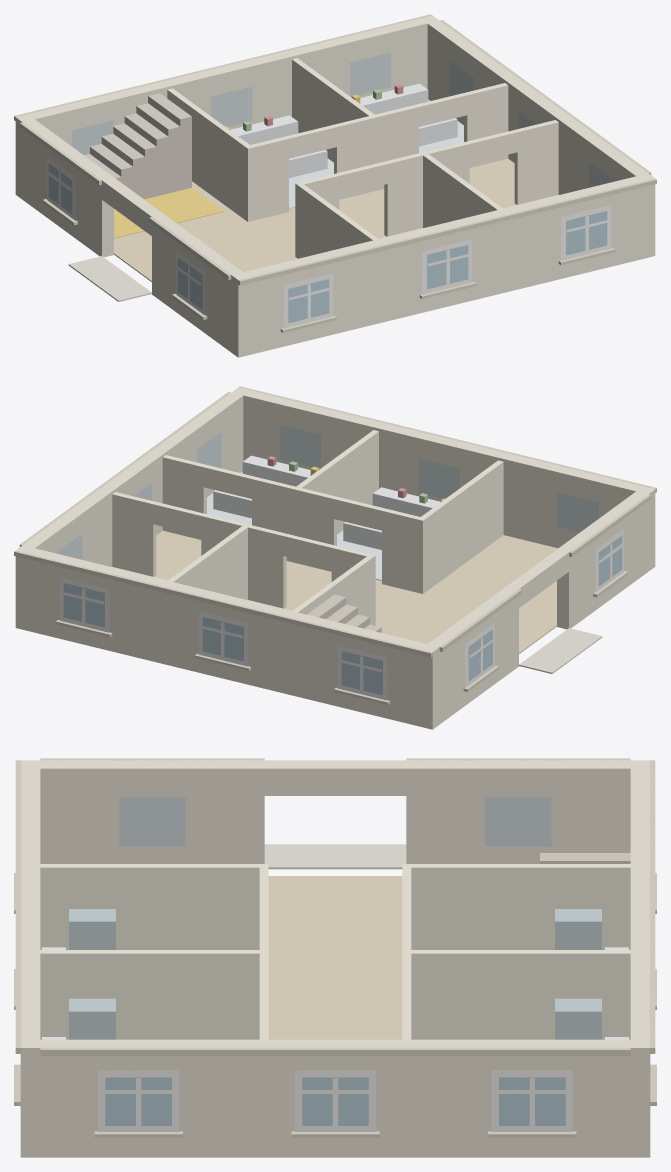
File: SPECIAL.glb
3 views of the same model, one above another, from view 1: azimuth 30°, elevation 25°; view 2: azimuth 150°, elevation 25°; view 3: azimuth 270°, elevation 25° (orthographic). The views are drawn at different scales.
Parts seen in each view (by area): view 1: HUS_SPECIAL__F1__E8DDC2, HUS_SPECIAL__F1__F1E6CA, HUS_SPECIAL__F1__CDB892, HUS_SPECIAL__F1__BFB3A0, HUS_SPECIAL__F1__C8BEA7, HUS_SPECIAL__F1__B4C7CD, HUS_SPECIAL__F1__FBF8F1, HUS_SPECIAL__F1__E6ECEE, HUS_SPECIAL__F1__87AABD, HUS_SPECIAL__F1__86A9BC, HUS_SPECIAL__F1__E7B54A, HUS_SPECIAL__F1__D7D1C2 (+2 smaller); view 2: HUS_SPECIAL__F1__E8DDC2, HUS_SPECIAL__F1__F1E6CA, HUS_SPECIAL__F1__CDB892, HUS_SPECIAL__F1__C8BEA7, HUS_SPECIAL__F1__B4C7CD, HUS_SPECIAL__F1__FBF8F1, HUS_SPECIAL__F1__E6ECEE, HUS_SPECIAL__F1__87AABD, HUS_SPECIAL__F1__86A9BC, HUS_SPECIAL__F1__D7D1C2, HUS_SPECIAL__F1__C3BAA3, HUS_SPECIAL__F1__BFB3A0 (+1 smaller); view 3: HUS_SPECIAL__F1__E8DDC2, HUS_SPECIAL__F1__F1E6CA, HUS_SPECIAL__F1__CDB892, HUS_SPECIAL__F1__C8BEA7, HUS_SPECIAL__F1__87AABD, HUS_SPECIAL__F1__9DB4BC, HUS_SPECIAL__F1__FBF8F1, HUS_SPECIAL__F1__B4C7CD, HUS_SPECIAL__F1__D7D1C2, HUS_SPECIAL__F1__C3BAA3, HUS_SPECIAL__F1__BFB3A0.
Boxes of the visible parts, x1,y1,x2,y2 form: HUS_SPECIAL__F1__E8DDC2: [15, 15, 655, 357]; HUS_SPECIAL__F1__F1E6CA: [167, 58, 558, 258]; HUS_SPECIAL__F1__CDB892: [114, 158, 516, 281]; HUS_SPECIAL__F1__BFB3A0: [84, 93, 191, 199]; HUS_SPECIAL__F1__C8BEA7: [14, 14, 656, 285]; HUS_SPECIAL__F1__B4C7CD: [72, 53, 612, 187]; HUS_SPECIAL__F1__FBF8F1: [47, 156, 611, 328]; HUS_SPECIAL__F1__E6ECEE: [230, 83, 457, 177]; HUS_SPECIAL__F1__87AABD: [178, 245, 468, 322]; HUS_SPECIAL__F1__86A9BC: [48, 163, 607, 255]; HUS_SPECIAL__F1__E7B54A: [114, 188, 223, 238]; HUS_SPECIAL__F1__D7D1C2: [68, 256, 151, 301]; HUS_SPECIAL__F1__E8DDC2: [15, 387, 655, 729]; HUS_SPECIAL__F1__F1E6CA: [112, 430, 503, 625]; HUS_SPECIAL__F1__CDB892: [154, 530, 557, 653]; HUS_SPECIAL__F1__C8BEA7: [14, 386, 656, 657]; HUS_SPECIAL__F1__B4C7CD: [58, 425, 598, 559]; HUS_SPECIAL__F1__FBF8F1: [59, 528, 623, 700]; HUS_SPECIAL__F1__E6ECEE: [213, 455, 440, 549]; HUS_SPECIAL__F1__87AABD: [63, 535, 622, 661]; HUS_SPECIAL__F1__86A9BC: [341, 630, 492, 694]; HUS_SPECIAL__F1__D7D1C2: [519, 628, 602, 673]; HUS_SPECIAL__F1__C3BAA3: [55, 571, 628, 704]; HUS_SPECIAL__F1__BFB3A0: [307, 594, 381, 632]; HUS_SPECIAL__F1__E8DDC2: [20, 760, 650, 1157]; HUS_SPECIAL__F1__F1E6CA: [40, 864, 630, 1039]; HUS_SPECIAL__F1__CDB892: [268, 876, 402, 1039]; HUS_SPECIAL__F1__C8BEA7: [15, 758, 655, 1055]; HUS_SPECIAL__F1__87AABD: [105, 1077, 565, 1125]; HUS_SPECIAL__F1__9DB4BC: [69, 909, 601, 1039]; HUS_SPECIAL__F1__FBF8F1: [98, 1070, 572, 1131]; HUS_SPECIAL__F1__B4C7CD: [119, 797, 551, 846]; HUS_SPECIAL__F1__D7D1C2: [264, 844, 406, 869]; HUS_SPECIAL__F1__C3BAA3: [14, 873, 656, 1137]; HUS_SPECIAL__F1__BFB3A0: [540, 853, 630, 863].
Size of the model in its own units: 24.51 by 4 by 21.24.
